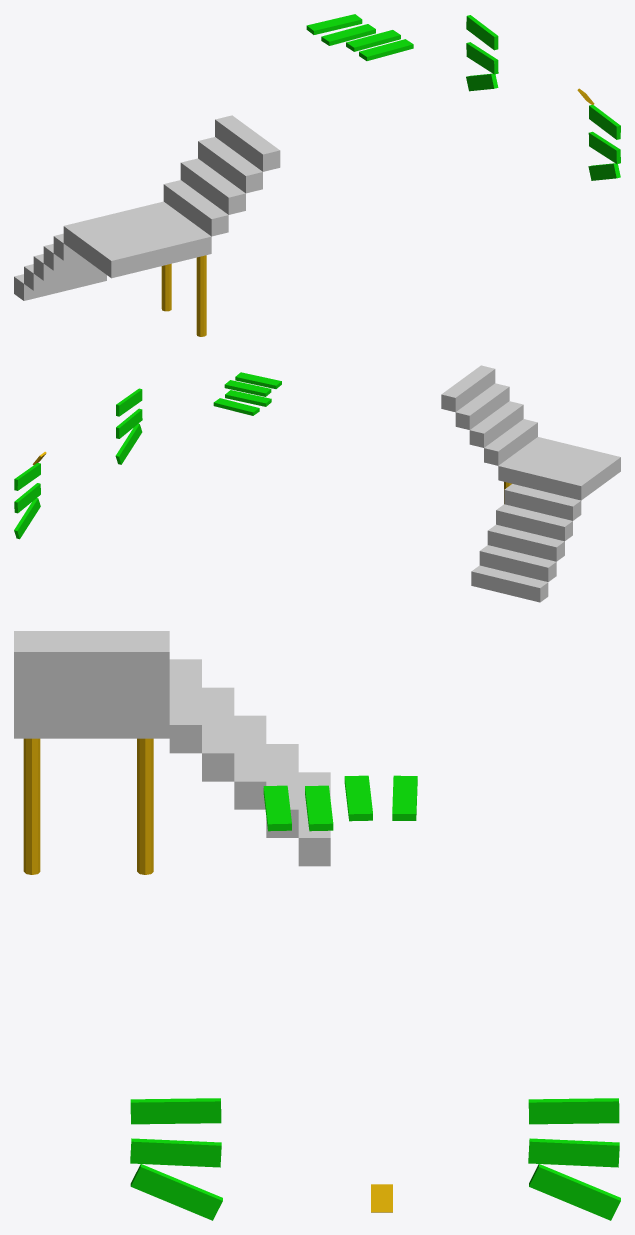
The model's file is Blocky_MainRoomV2_Gameplay.fbx.
3 views of the same model, one above another, from view 1: azimuth 30°, elevation 25°; view 2: azimuth 150°, elevation 25°; view 3: azimuth 270°, elevation 25° (orthographic). The views are drawn at different scales.
Parts seen in each view (by area): view 1: Cube.369, Cylinder.010, Cube.640, Cube.639, Cube.641, Cube.642, Cube.251, Cube.250, Cube.296, Cube.295, Cylinder.012, Cube.249 (+1 smaller); view 2: Cube.369, Cube.641, Cube.639, Cube.640, Cube.642, Cube.249, Cube.294, Cube.250, Cube.295, Cube.296, Cube.251; view 3: Cube.369, Cylinder.010, Cube.251, Cube.296, Cube.250, Cube.295, Cube.294, Cube.249, Cylinder.012, Cube.641, Cube.642, Cube.639 (+1 smaller).
Part boxes in pixels (<box>): Cube.369: <box>14,115,280,300</box>; Cylinder.010: <box>196,255,206,336</box>; Cube.640: <box>306,14,362,34</box>; Cube.639: <box>321,24,375,45</box>; Cube.641: <box>346,30,400,51</box>; Cube.642: <box>359,39,413,60</box>; Cube.251: <box>466,15,498,50</box>; Cube.250: <box>466,42,498,74</box>; Cube.296: <box>589,104,620,139</box>; Cube.295: <box>588,131,620,163</box>; Cylinder.012: <box>161,263,171,311</box>; Cube.249: <box>466,73,498,91</box>; Cube.369: <box>441,365,620,602</box>; Cube.641: <box>224,380,271,396</box>; Cube.639: <box>225,390,271,406</box>; Cube.640: <box>213,398,259,415</box>; Cube.642: <box>235,372,281,388</box>; Cube.249: <box>14,498,40,539</box>; Cube.294: <box>115,423,142,464</box>; Cube.250: <box>14,483,40,513</box>; Cube.295: <box>116,408,142,438</box>; Cube.296: <box>116,388,142,416</box>; Cube.251: <box>14,463,40,490</box>; Cube.369: <box>14,631,330,866</box>; Cylinder.010: <box>23,738,40,874</box>; Cube.251: <box>528,1098,619,1124</box>; Cube.296: <box>130,1098,221,1124</box>; Cube.250: <box>528,1138,619,1167</box>; Cube.295: <box>130,1138,221,1167</box>; Cube.294: <box>130,1164,222,1220</box>; Cube.249: <box>529,1164,620,1220</box>; Cylinder.012: <box>137,738,153,874</box>; Cube.641: <box>305,785,333,831</box>; Cube.642: <box>263,785,291,831</box>; Cube.639: <box>344,775,372,821</box>.
Size of the model in its own units: 4094 by 1145 by 2233.
